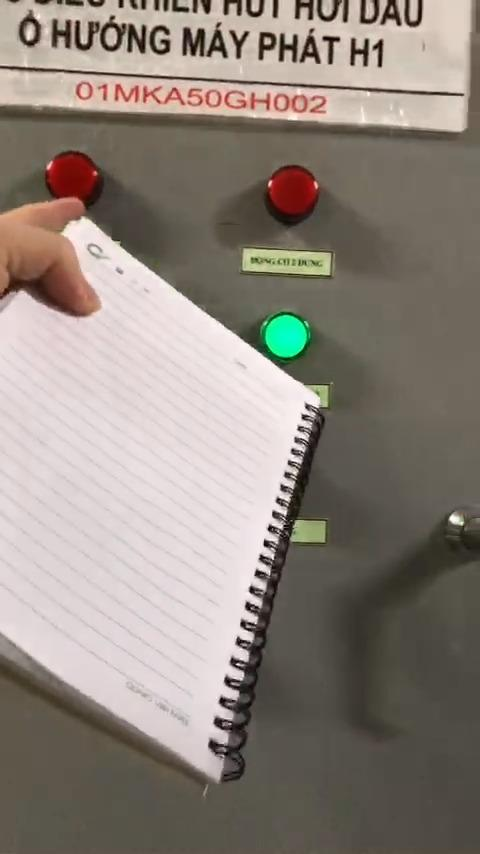led: (43, 148, 107, 209), (259, 162, 320, 220), (260, 310, 318, 362)
